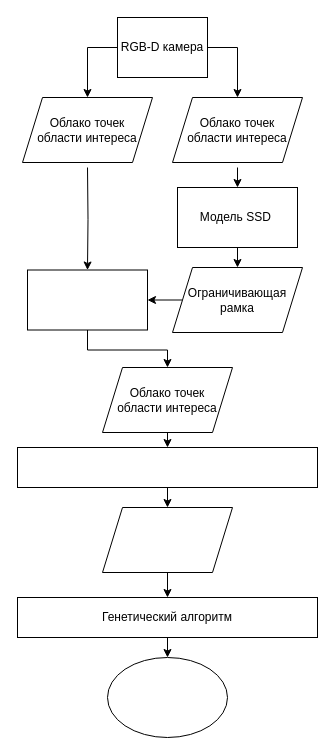
This 335x755 diagram has some shape labels left out. Here are the shapes that lost their labels. From the top down, the centre of each, then its label:
At point (87, 299): "Фильтр облака точек".
At point (167, 467): "RANSAC".
At point (167, 539): "Параметры первичного примитива".
At point (167, 697): "Мета-описание сцены".
